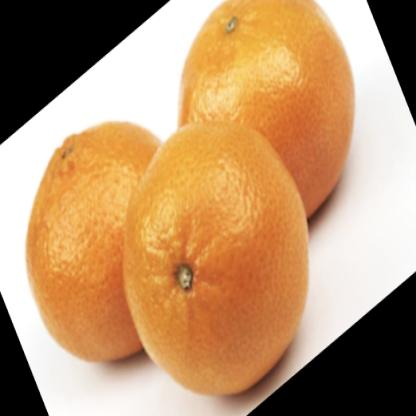fresh: (25, 1, 356, 395)
